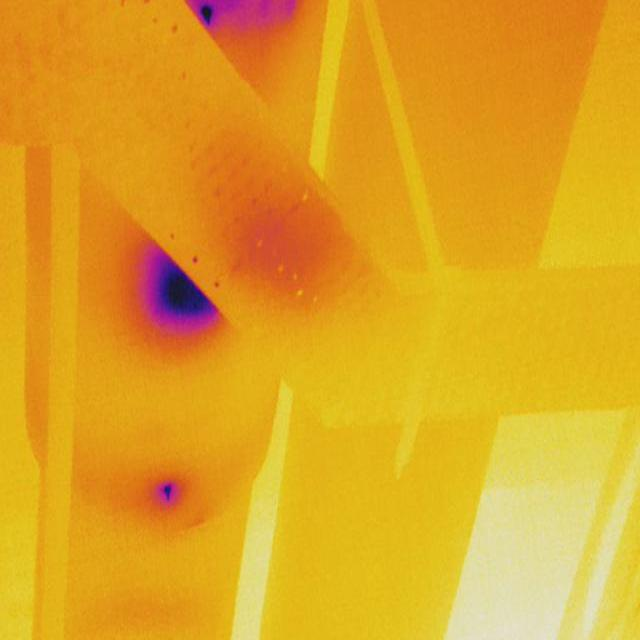leakage: (214, 160, 338, 296), (144, 250, 212, 325), (199, 0, 239, 31), (156, 473, 181, 510)
